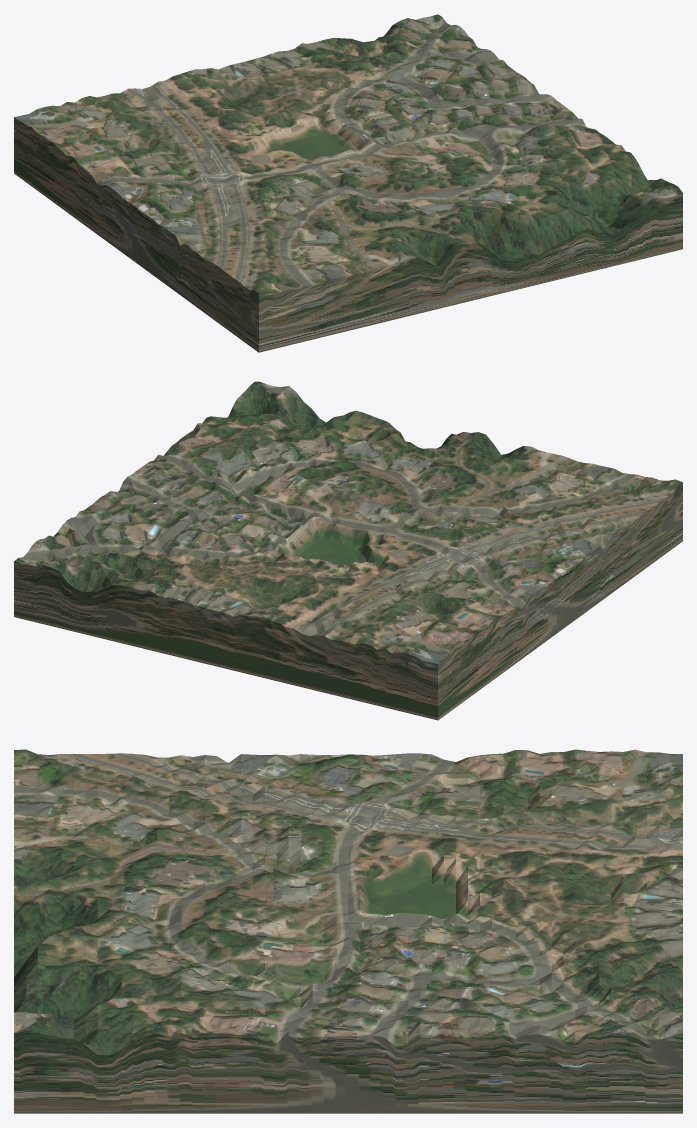
The model's file is before (2).glb.
The picture shows the model from 3 angles, top to bottom: view 1: azimuth 30°, elevation 25°; view 2: azimuth 150°, elevation 25°; view 3: azimuth 270°, elevation 25°; orthographic projection. The views are drawn at different scales.
Parts seen in each view (by area): view 1: geometry_0; view 2: geometry_0; view 3: geometry_0.
Boxes of the visible parts, x1,y1,x2,y2 form: geometry_0: [14, 14, 682, 352]; geometry_0: [14, 381, 682, 720]; geometry_0: [14, 749, 682, 1113].
Size of the model in its own units: 896 by 122 by 896.
Materials: 1 (1 with a texture image).
